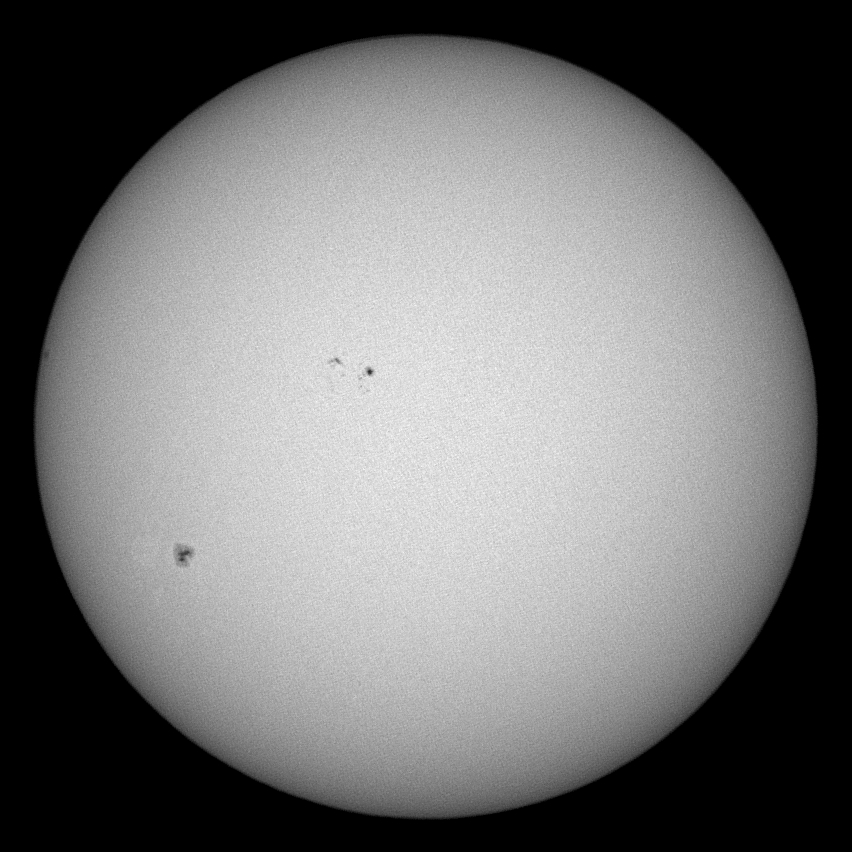sunspot: (324, 352, 376, 391), (170, 537, 197, 570)
